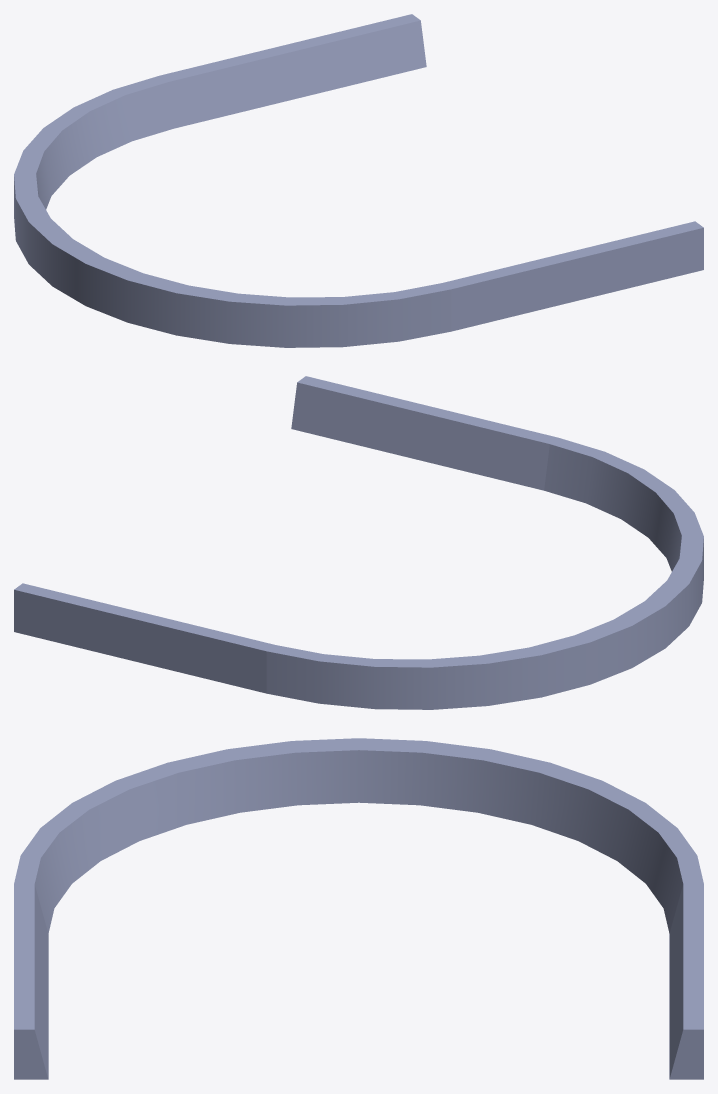
File: road-end-round-barrier.fbx
3 renders of one model, top to bottom at view 1: azimuth 30°, elevation 25°; view 2: azimuth 150°, elevation 25°; view 3: azimuth 270°, elevation 25°, orthographic. The views are drawn at different scales.
Parts seen in each view (by area): view 1: road-end-round-barrier; view 2: road-end-round-barrier; view 3: road-end-round-barrier.
Boxes of the visible parts, x1,y1,x2,y2 form: road-end-round-barrier: (14, 14, 703, 347); road-end-round-barrier: (14, 376, 703, 709); road-end-round-barrier: (14, 738, 703, 1079).
Size of the model in its own units: 100 by 8 by 100.
